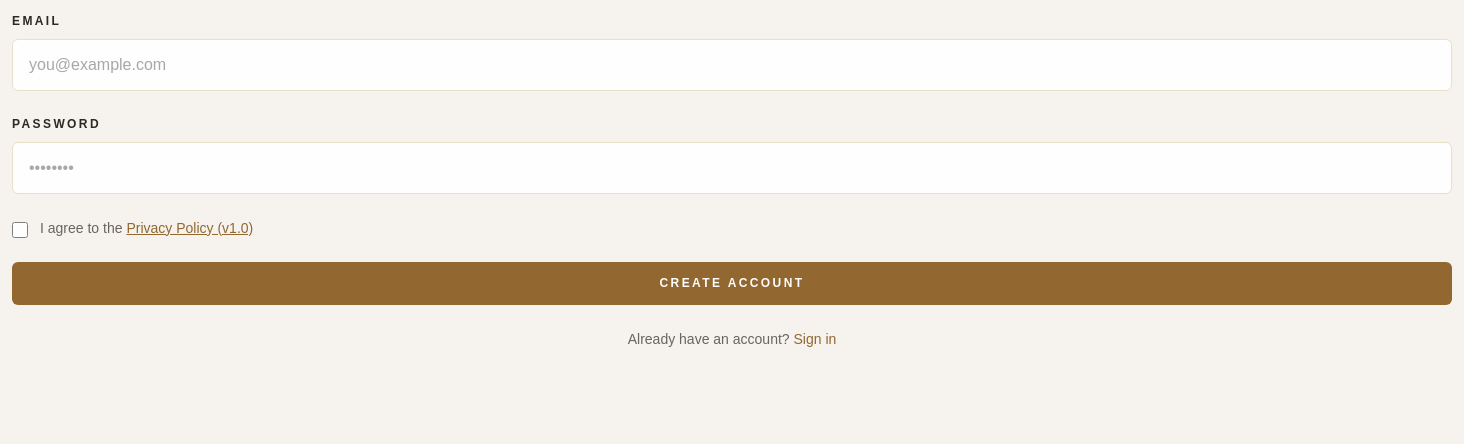
Test case: SignupForm › shows validation errors for empty submission
Click the button "Create Account" at (732, 283), box [12,262,1452,305]
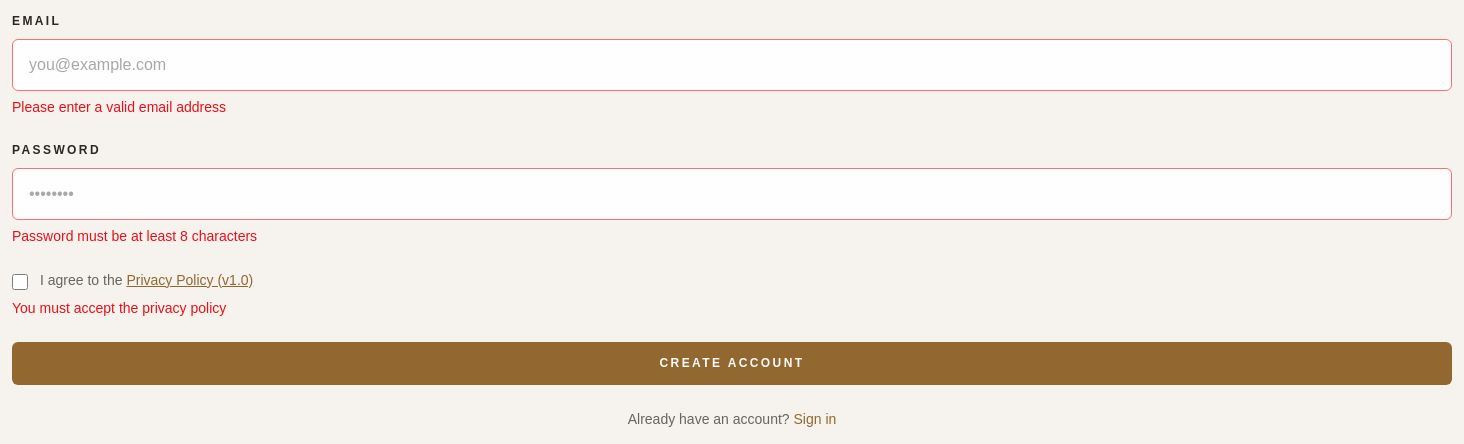
Check: the message "Please enter a valid email address" is shown, box [12,99,226,115]
